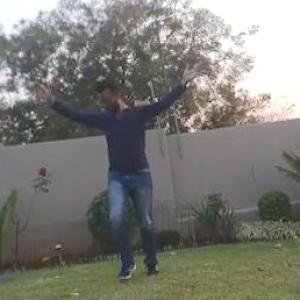takeoff: (29, 66, 202, 288)
